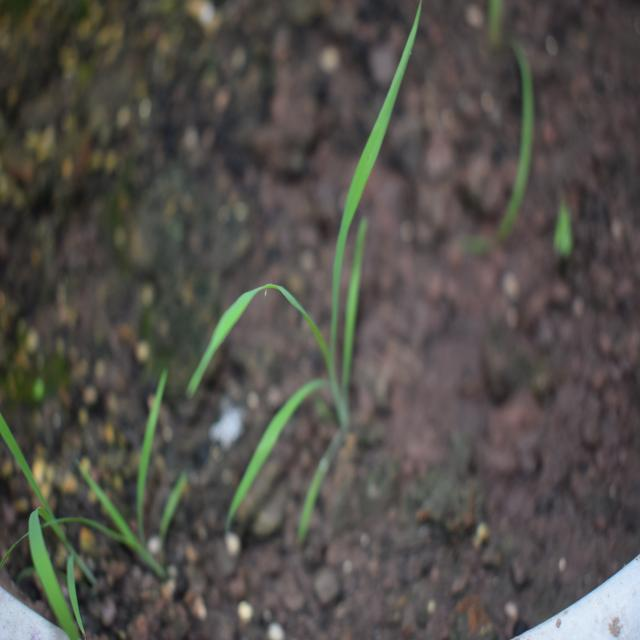barnyard_grass: (167, 12, 435, 551)
